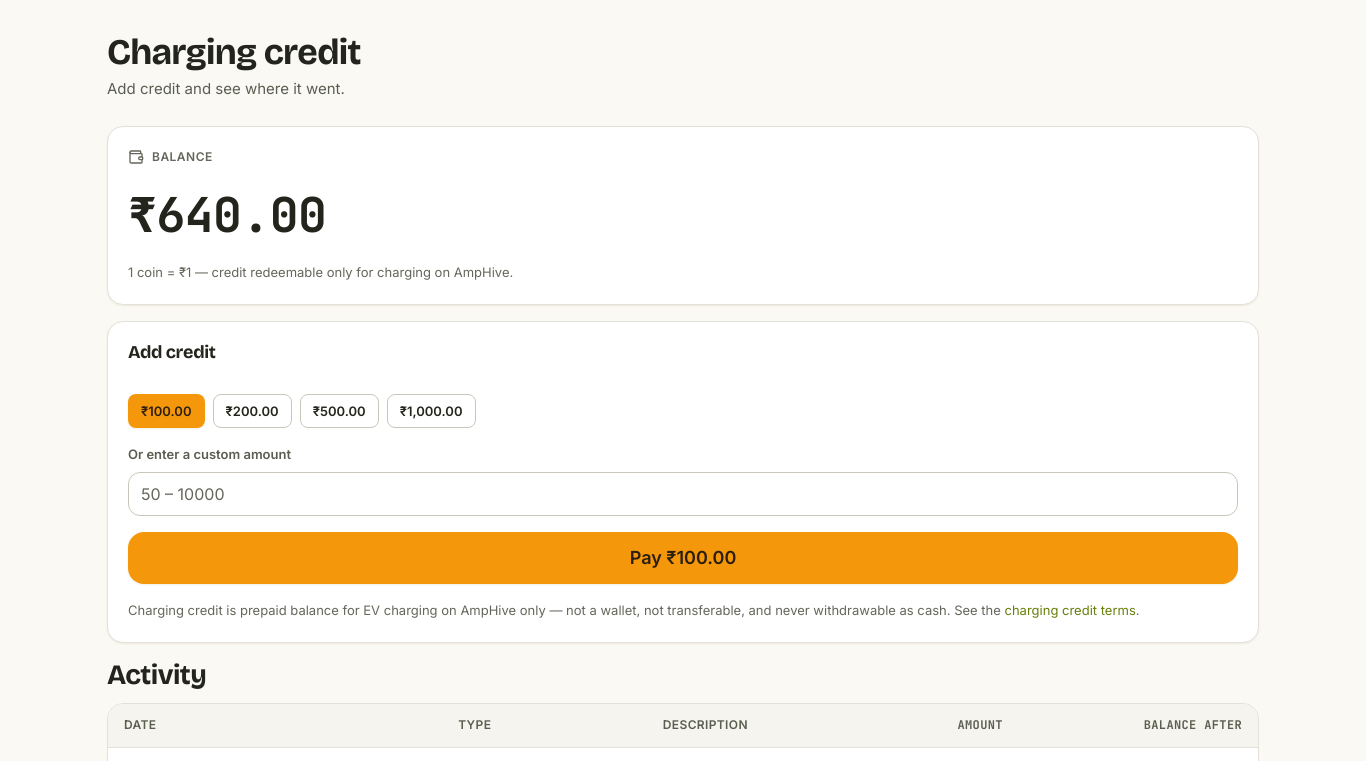
Scenario: checkout flow › shows a neutral notice (not an error) when the checkout is dismissed
Click the button "Pay ₹100.00": (683,558) top-left (128, 532), bottom-right (1238, 584)
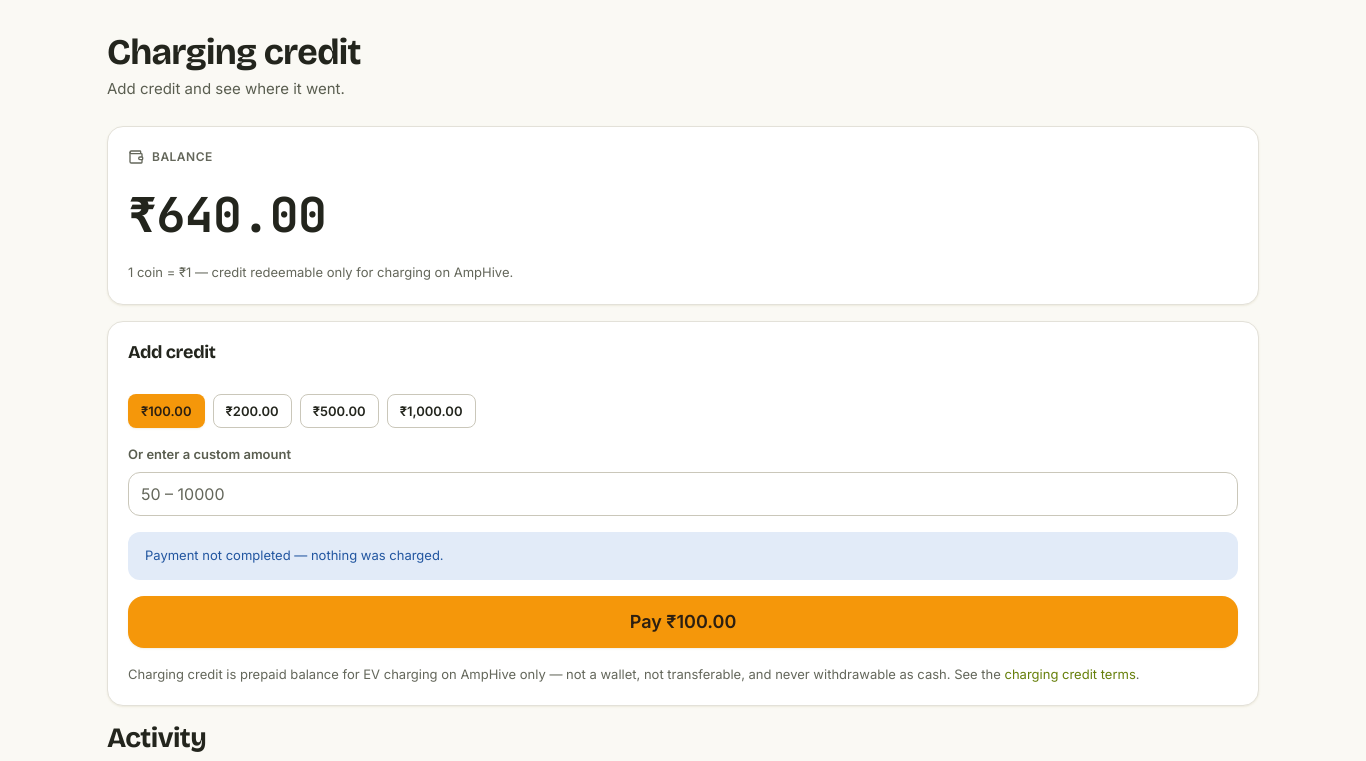
Expected: the text "Payment not completed — nothing was charged." is shown, top-left (128, 532), bottom-right (1238, 580)
